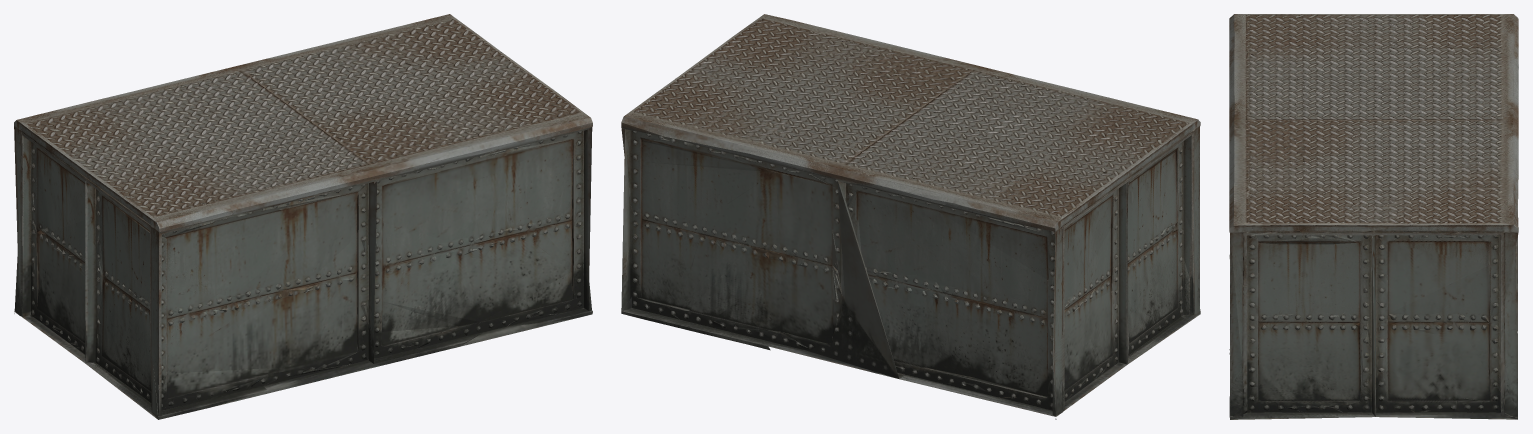
File: ropeway_loading_station.glb
The picture shows the model from 3 angles, left to right: view 1: azimuth 30°, elevation 25°; view 2: azimuth 150°, elevation 25°; view 3: azimuth 270°, elevation 25°; orthographic projection.
Size of the model in its own units: 1.9 by 0.8243 by 1.1.
Materials: 1 (1 with a texture image).
